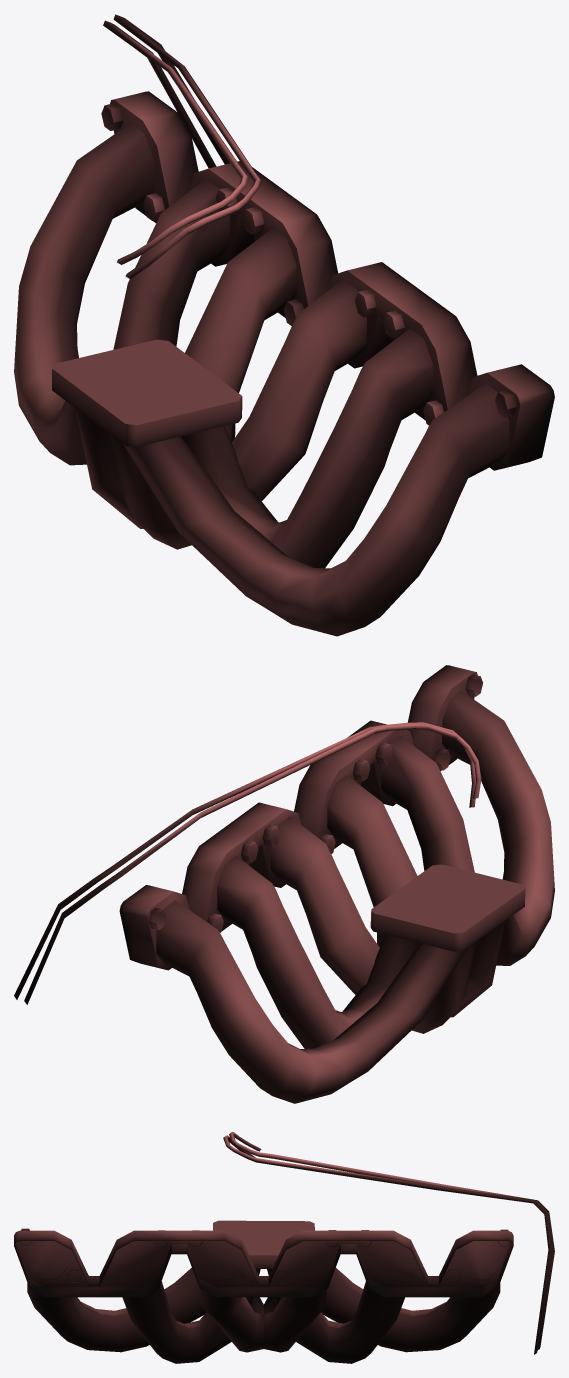
File: JZ_ExhaustManifoldTurbo3.fbx
The picture shows the model from 3 angles, top to bottom: view 1: azimuth 30°, elevation 25°; view 2: azimuth 150°, elevation 25°; view 3: azimuth 270°, elevation 25°; orthographic projection. The views are drawn at different scales.
Parts seen in each view (by area): view 1: ExhaustManifoldTurbo3; view 2: ExhaustManifoldTurbo3; view 3: ExhaustManifoldTurbo3.
Part boxes in pixels (bbox=[...]): ExhaustManifoldTurbo3: bbox=[14, 14, 554, 636]; ExhaustManifoldTurbo3: bbox=[14, 665, 554, 1103]; ExhaustManifoldTurbo3: bbox=[14, 1132, 554, 1363].
Bounding box in the file's own units: 37.03 × 33.47 × 75.92.
